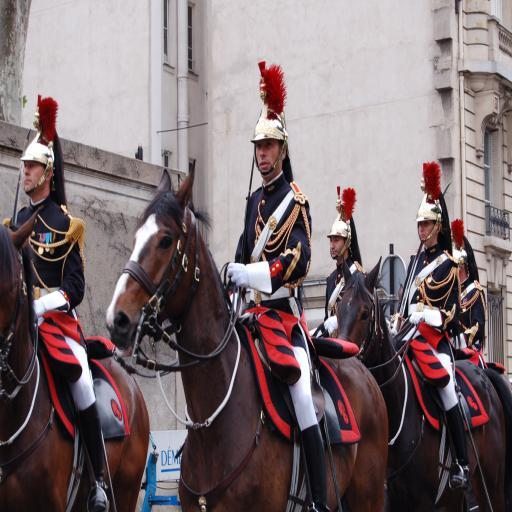Horse: (106, 155, 390, 512), (332, 256, 511, 511), (0, 206, 148, 512)
